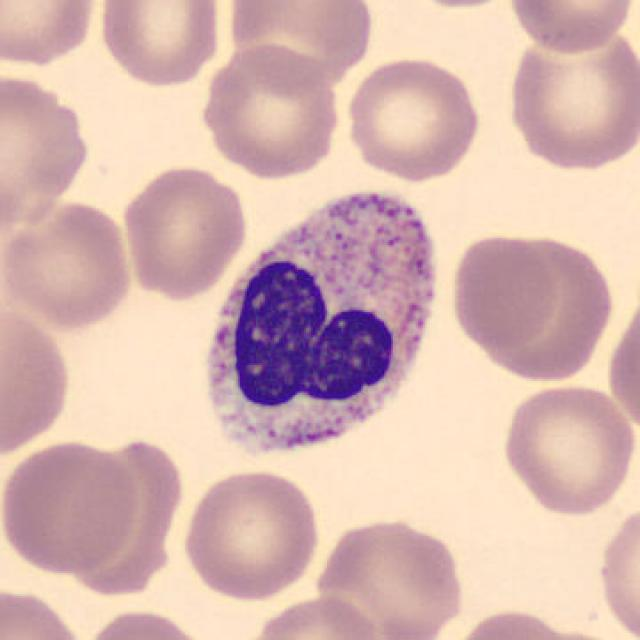Neutrophil: (186, 178, 450, 480)
RBC: (462, 231, 620, 386), (503, 21, 638, 175), (197, 40, 345, 180), (0, 436, 142, 578), (178, 465, 324, 603), (313, 513, 469, 640), (496, 379, 636, 520), (117, 160, 251, 302), (0, 196, 137, 332), (342, 53, 484, 183), (71, 438, 184, 592), (0, 65, 94, 236), (220, 0, 377, 92), (446, 231, 560, 353), (0, 299, 76, 460), (94, 0, 228, 90), (504, 0, 638, 56), (0, 0, 101, 69), (242, 592, 386, 640), (592, 497, 640, 640), (604, 282, 640, 443), (0, 583, 90, 640), (448, 604, 590, 640), (78, 606, 213, 640), (384, 0, 530, 12)
